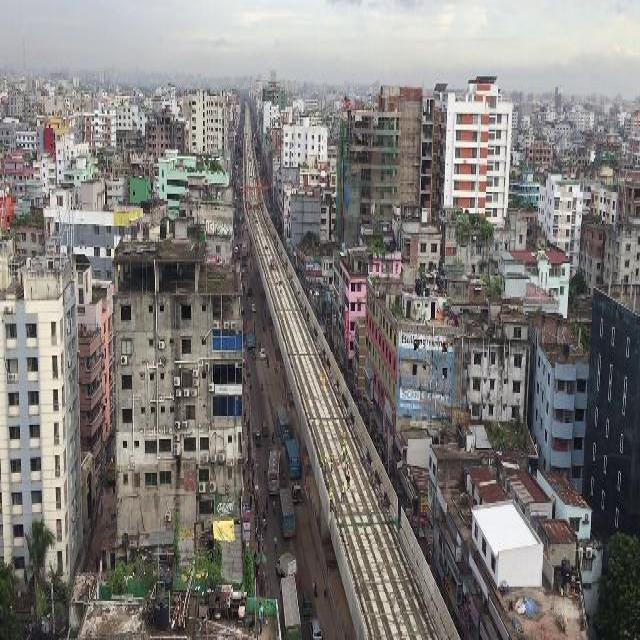bike: (273, 432, 276, 445), (267, 358, 270, 369), (261, 380, 264, 390)
vehicle: (281, 576, 302, 638), (280, 489, 296, 537), (285, 439, 301, 478), (268, 450, 280, 494), (277, 552, 298, 577), (277, 410, 290, 445), (247, 319, 256, 348), (310, 619, 322, 638), (304, 590, 313, 615), (293, 484, 302, 503), (256, 432, 262, 446), (281, 472, 287, 486), (263, 420, 268, 436), (243, 241, 248, 255), (261, 348, 266, 358), (252, 304, 257, 313), (253, 348, 257, 358), (236, 247, 239, 254)
